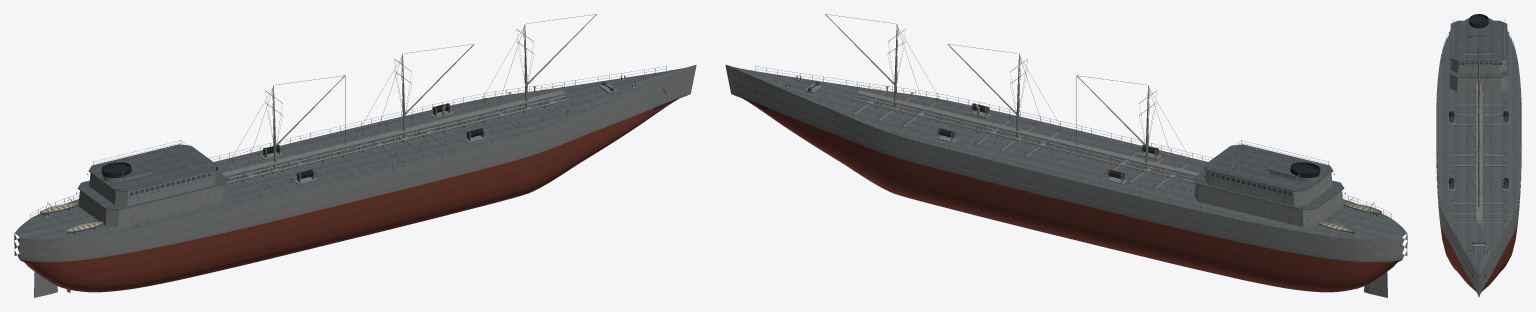
The model's file is maru_depot_t23.glb.
3 views of the same model, side by side, from view 1: azimuth 30°, elevation 25°; view 2: azimuth 150°, elevation 25°; view 3: azimuth 270°, elevation 25° (orthographic). The views are drawn at different scales.
Visible parts, largest first — view 1: Standard Maru fleet tender; view 2: Standard Maru fleet tender; view 3: Standard Maru fleet tender.
Boxes of the visible parts, left/top/right/bottom form: Standard Maru fleet tender: left=14, top=14, right=696, bottom=297; Standard Maru fleet tender: left=725, top=14, right=1407, bottom=297; Standard Maru fleet tender: left=1436, top=14, right=1521, bottom=297.
Size of the model in its own units: 135 by 29.98 by 18.29.
Materials: 10 (9 with a texture image).
